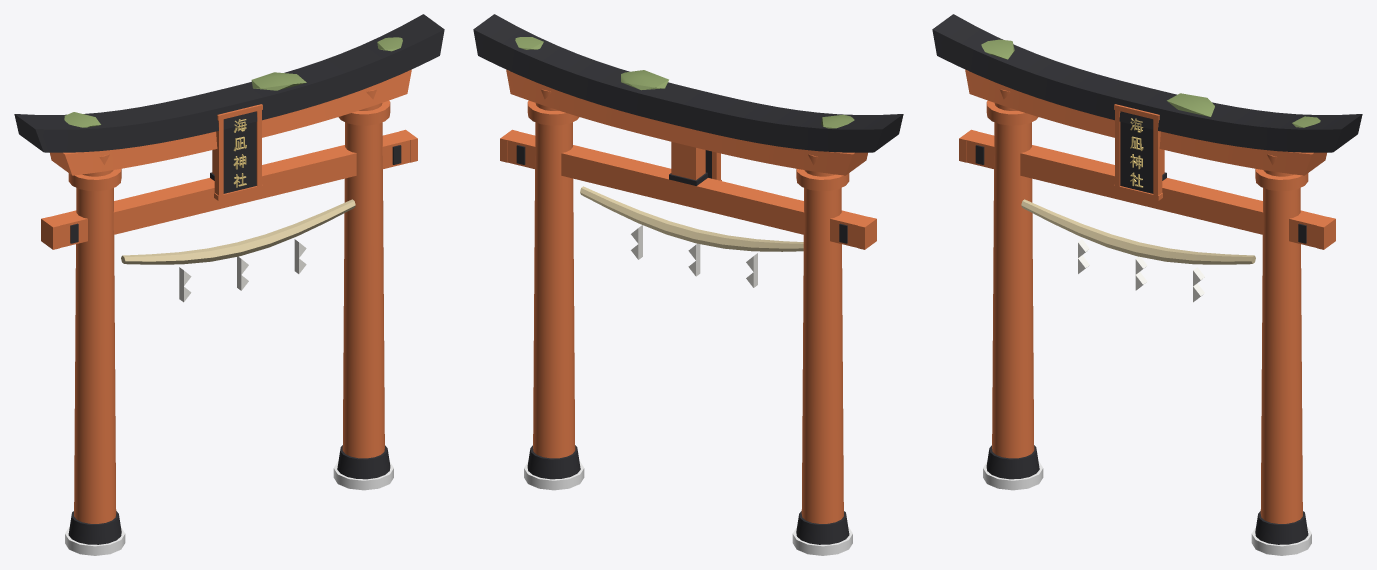
Rendered from torii.glb.
3 views of the same model, side by side, from view 1: azimuth 30°, elevation 25°; view 2: azimuth 150°, elevation 25°; view 3: azimuth 330°, elevation 25° (orthographic).
Visible parts, largest first — view 1: torii_body; view 2: torii_body; view 3: torii_body.
Part boxes in pixels (x1,y1,x2,y2): torii_body: (14, 14, 444, 555); torii_body: (473, 14, 903, 555); torii_body: (932, 14, 1362, 555).
Size of what is drawn, in the model's own units: 5.33 by 5.46 by 0.68.
